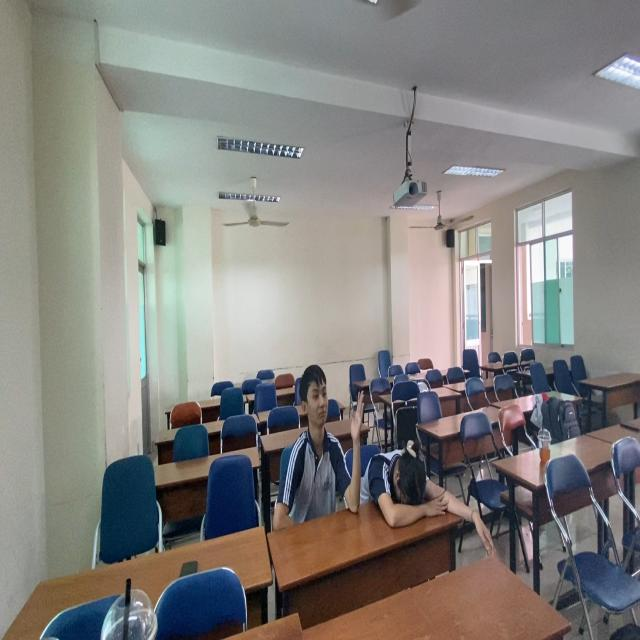raise_hand: (277, 361, 366, 532)
sleep: (373, 442, 471, 534)
